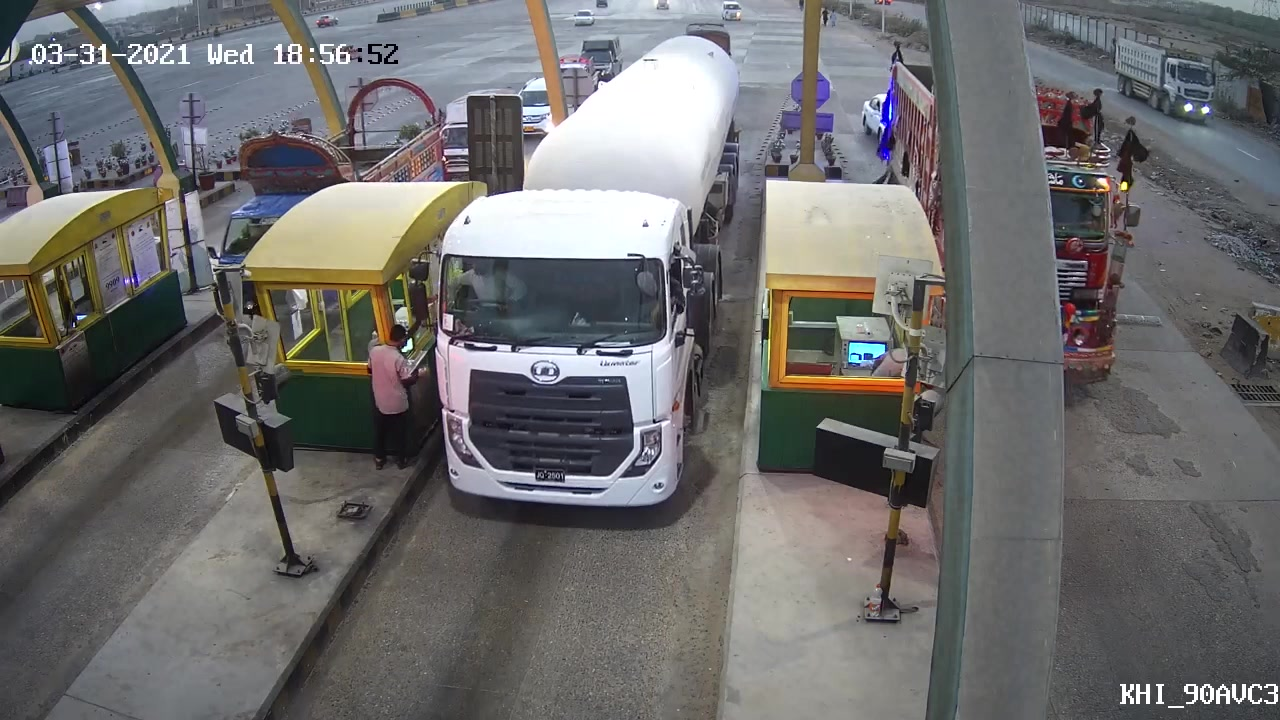F6: (416, 33, 745, 513)
